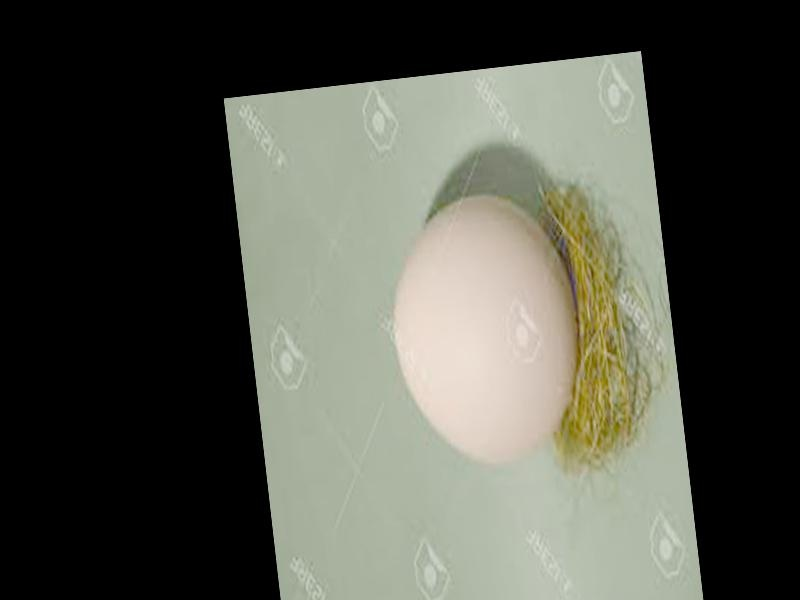Eggs: (382, 198, 588, 471)
